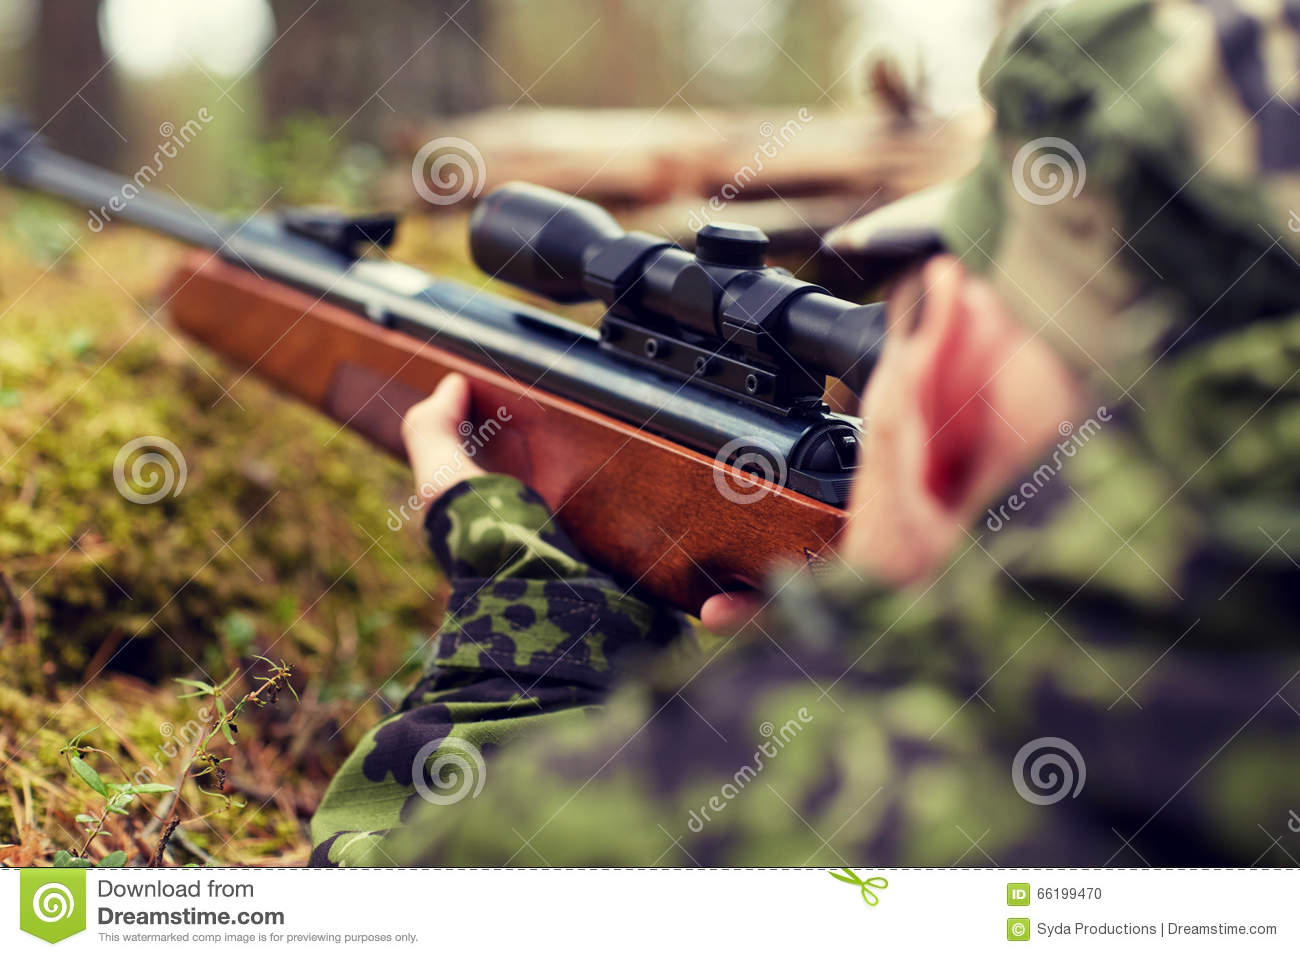Gun: (133, 200, 848, 475)
